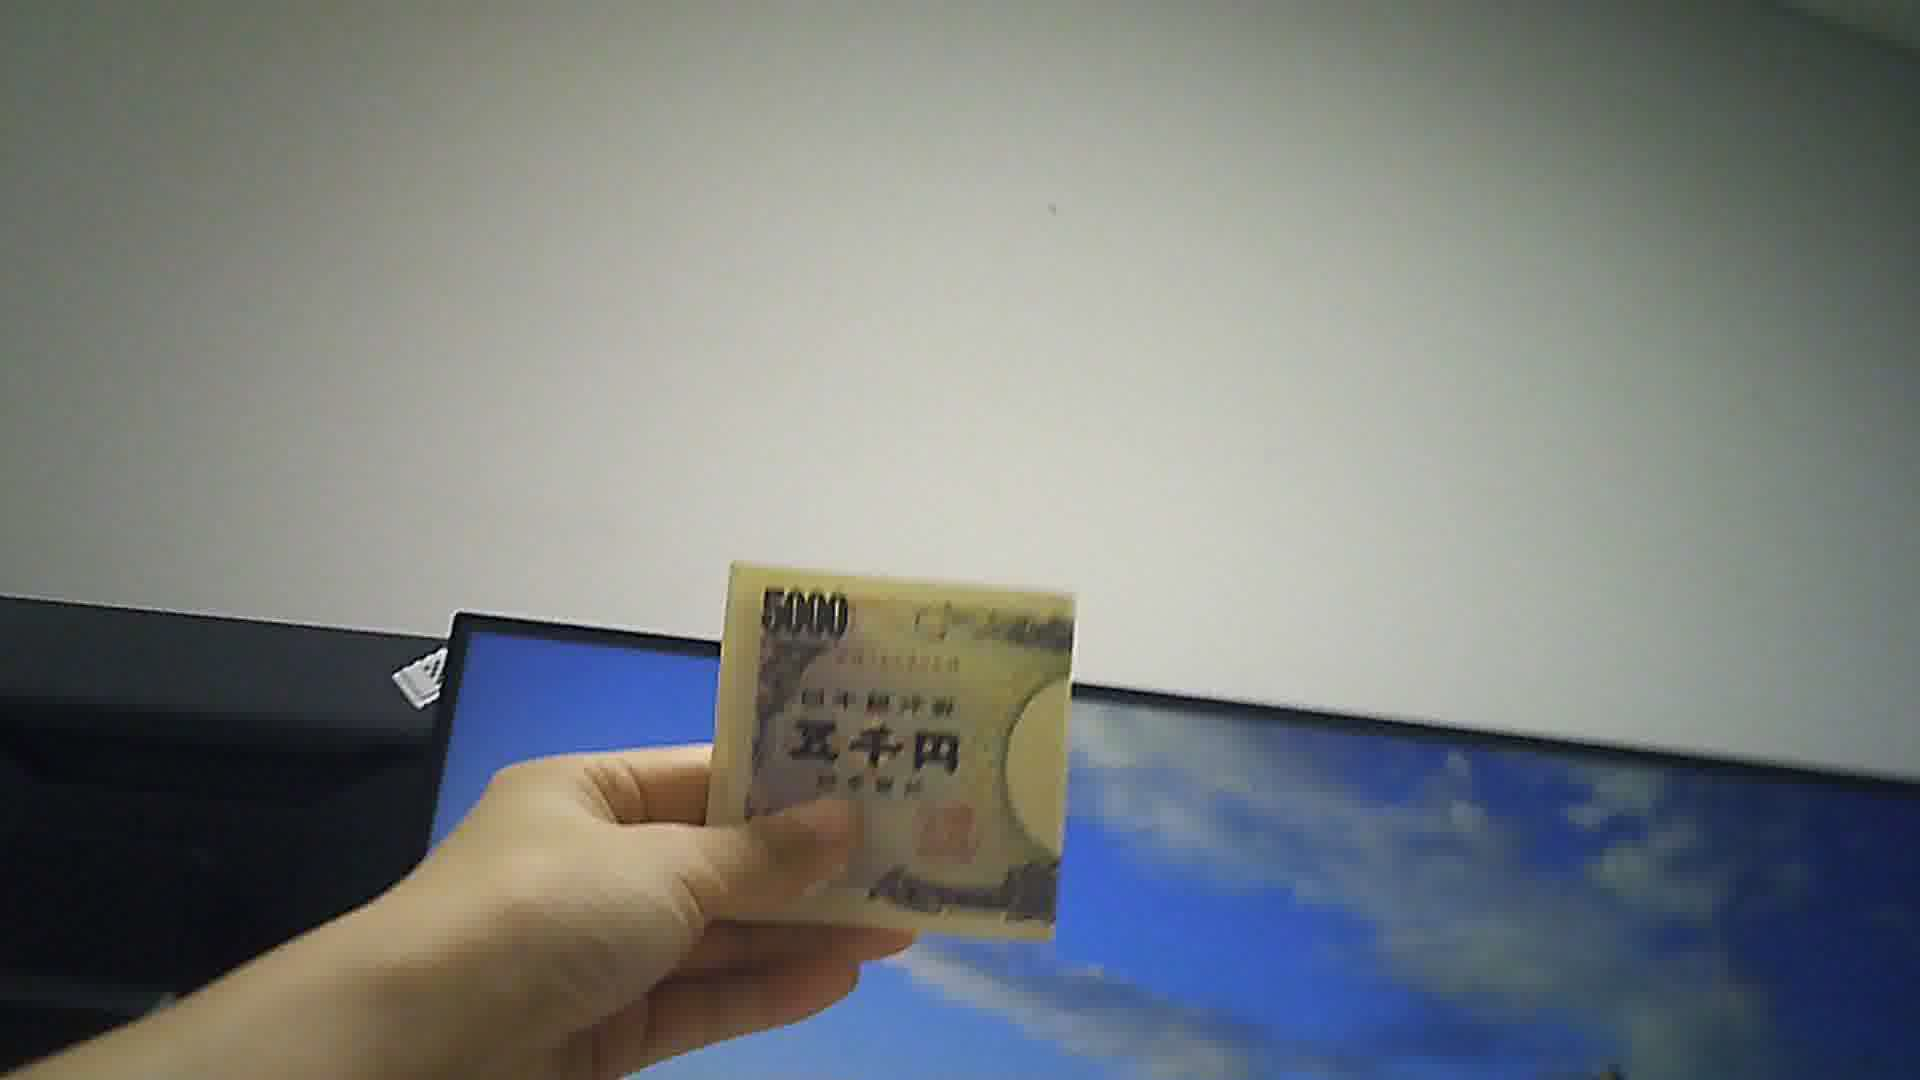5,000 Yen: (669, 547, 1106, 971)
